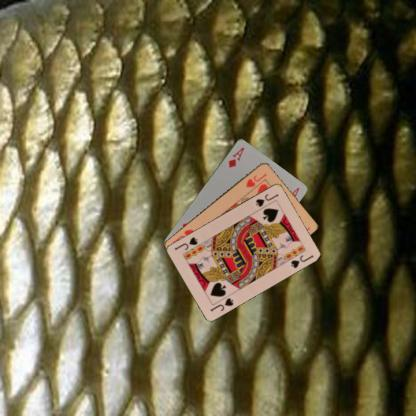Ad: (226, 144, 245, 169)
Jh: (243, 170, 268, 188)
Js: (208, 295, 235, 313), (253, 191, 280, 208)
